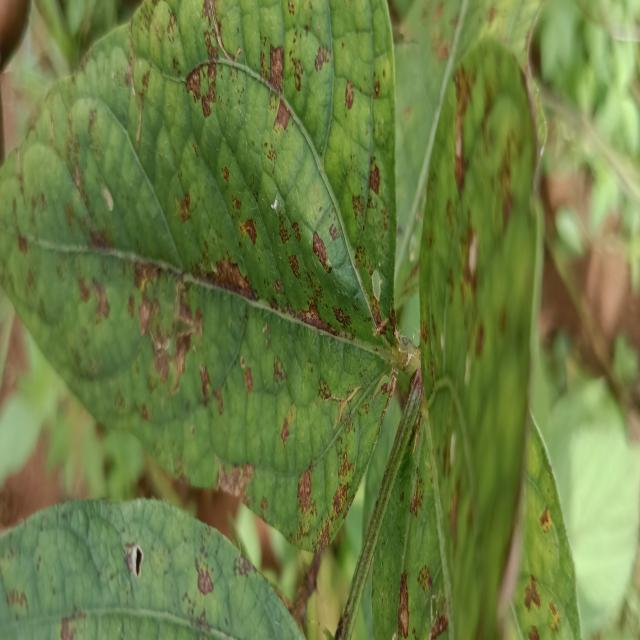Black gram_leaf spot: (0, 0, 406, 562), (419, 33, 583, 640), (2, 495, 303, 640)
